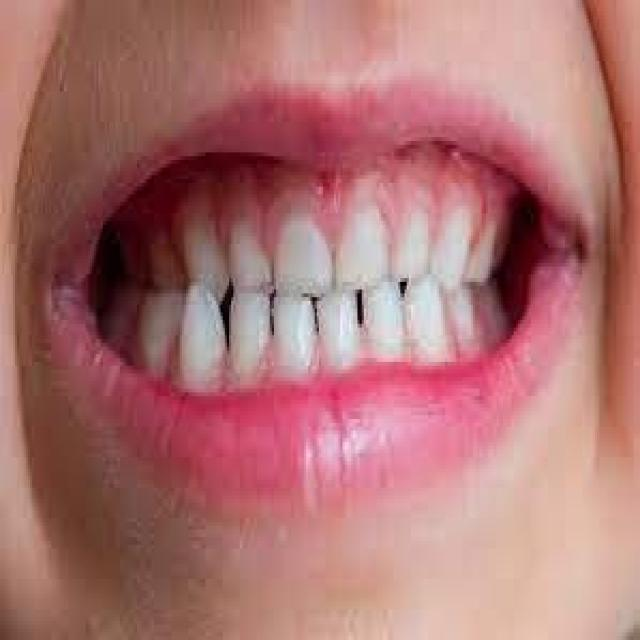tooth: (344, 202, 390, 270), (176, 290, 220, 354), (283, 221, 323, 289), (398, 282, 441, 339), (359, 278, 392, 335), (227, 232, 267, 278), (477, 217, 497, 290), (184, 236, 218, 274), (400, 221, 426, 270), (447, 224, 467, 286), (321, 301, 349, 335), (276, 312, 300, 347), (231, 301, 253, 339)
